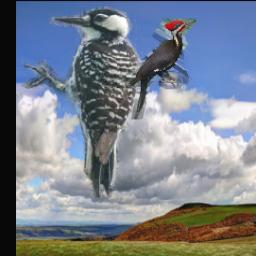Woodpecker: (19, 6, 145, 198), (128, 18, 197, 119)
